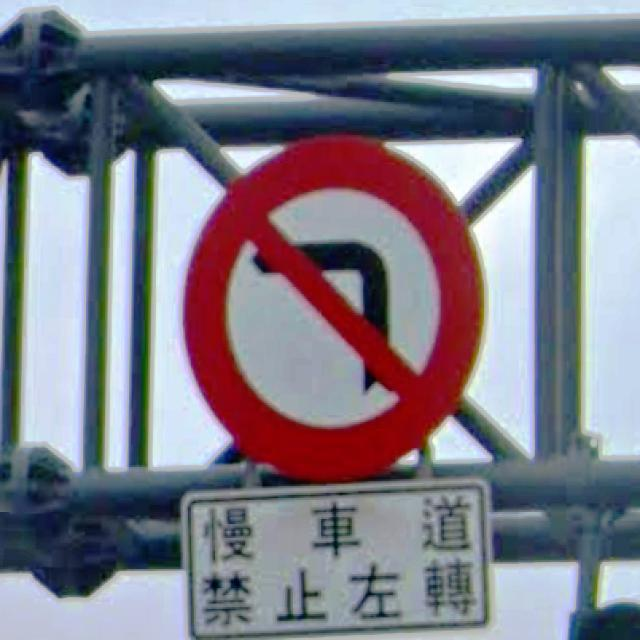noturnleft: (176, 130, 488, 479)
